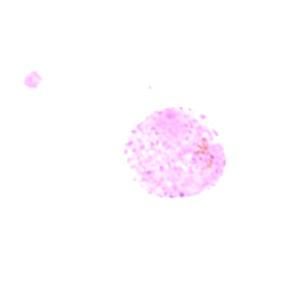Infected: (123, 108, 229, 201)
